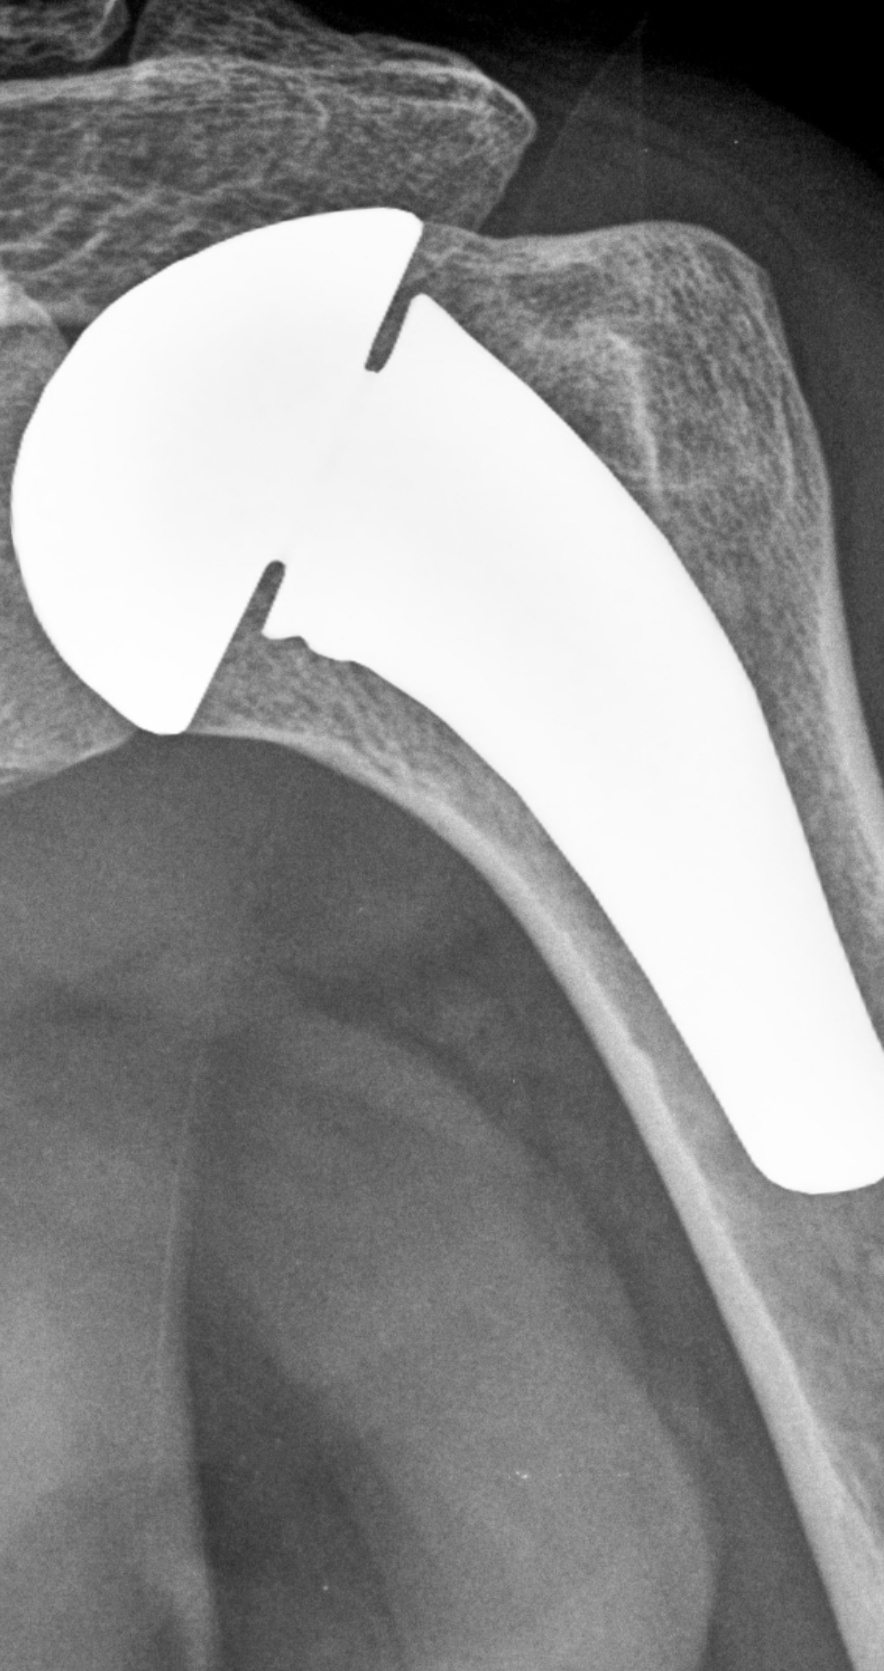Shoulder - AequalisAscendFlex - Tornier: (1, 190, 457, 745)
